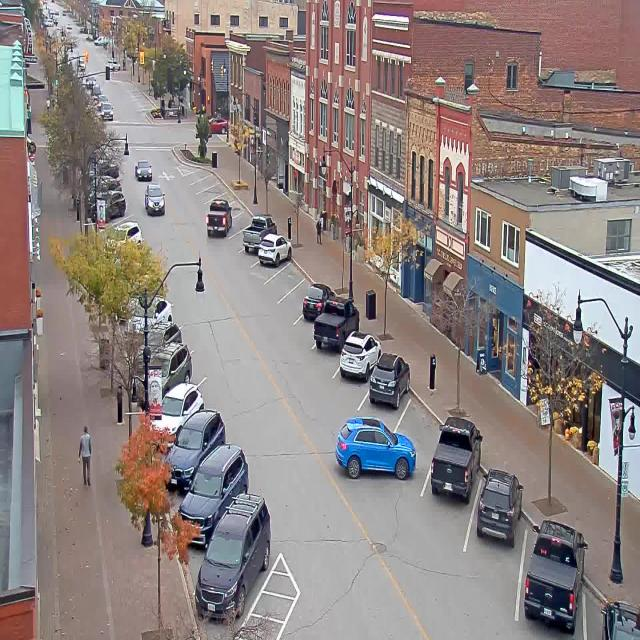available: (274, 286, 310, 320), (266, 266, 300, 296), (224, 229, 246, 253), (190, 174, 218, 190), (199, 184, 226, 198), (185, 165, 208, 181), (232, 210, 250, 230)
occupied: (195, 491, 271, 622), (177, 442, 249, 549), (523, 518, 588, 634), (162, 408, 226, 492), (335, 415, 416, 480), (430, 416, 482, 503), (132, 341, 193, 407), (149, 380, 204, 448), (476, 468, 523, 547), (313, 297, 359, 352), (369, 351, 410, 409), (339, 330, 381, 381), (594, 596, 640, 640), (242, 213, 277, 254), (257, 233, 292, 267), (302, 282, 332, 321), (205, 198, 232, 236)
